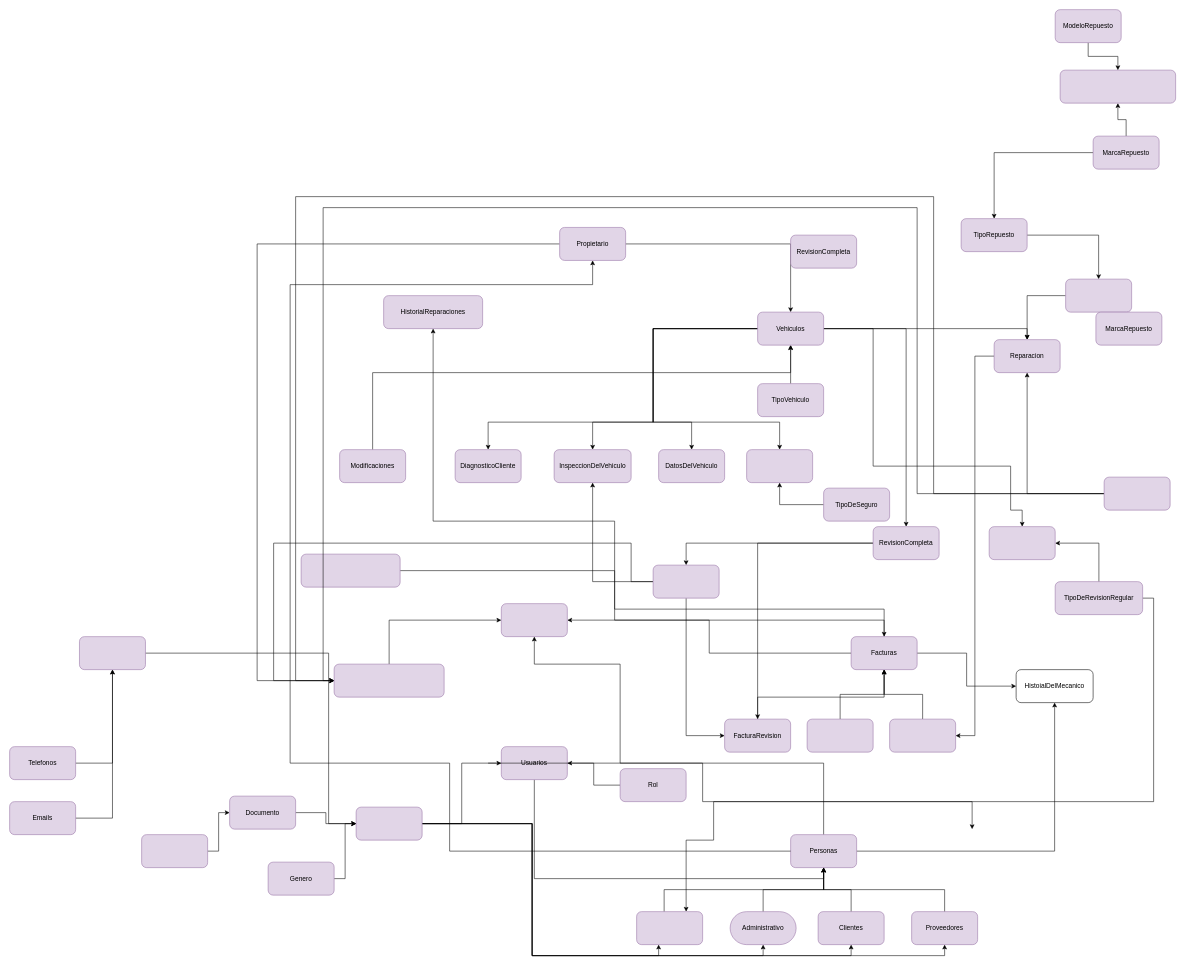
Image size: 1185x970. Some labels were removed from this diagram. Here are the shapes that lost their labels. From the top down, the box of each, then its label:
(1060, 70, 1176, 103): CompatibilidadConOtroModelo
(1065, 279, 1132, 312): Repuestos
(746, 449, 813, 483): Seguro
(1104, 477, 1170, 510): EstadoReparacion
(989, 526, 1055, 560): RevisionRegular
(301, 554, 400, 587): PersonalResponsable
(653, 565, 719, 598): Diagnostico
(501, 603, 567, 637): Taller
(79, 636, 145, 670): Contactos
(334, 664, 444, 697): VehiculosDentroDelTaller
(807, 719, 873, 752): FacturaAutorizacion
(889, 719, 956, 752): FacturaEntrega
(356, 807, 422, 840): InformacionPersonal
(141, 834, 208, 868): TipoDeDocumento
(636, 911, 703, 945): Mecanicos
